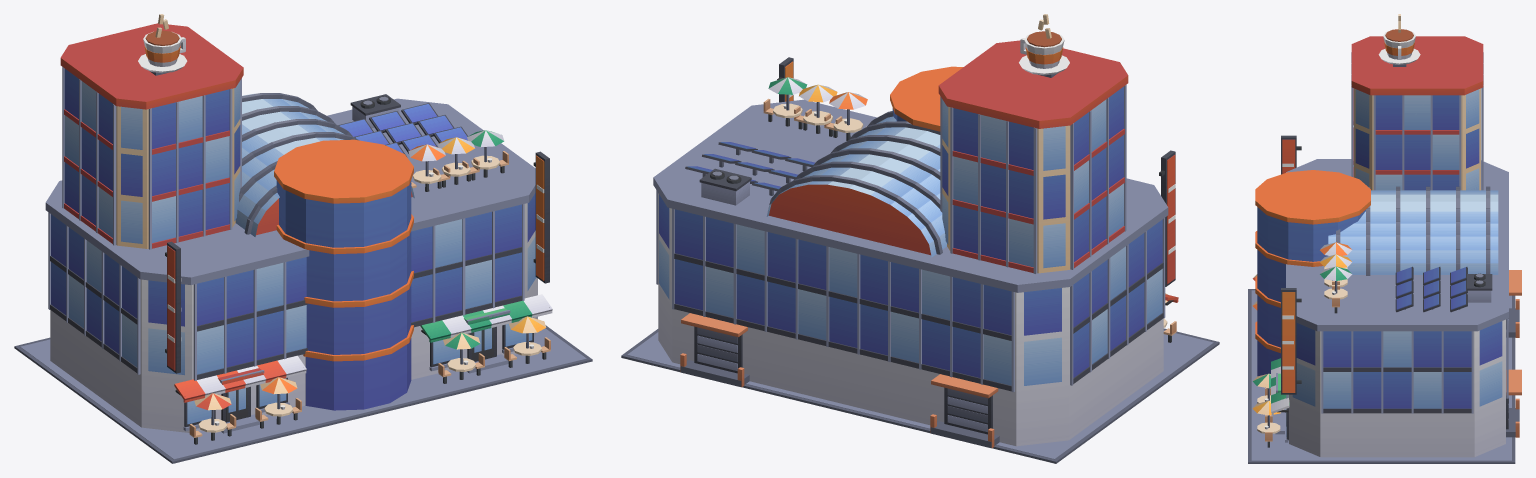
Rendered from com_metropolis_mall_3x2.glb.
3 views of the same model, side by side, from view 1: azimuth 30°, elevation 25°; view 2: azimuth 150°, elevation 25°; view 3: azimuth 270°, elevation 25° (orthographic). The views are drawn at different scales.
Parts seen in each view (by area): view 1: com_metropolis_mall_3x2; view 2: com_metropolis_mall_3x2; view 3: com_metropolis_mall_3x2.
Part boxes in pixels (box(x1,y1,x2,y2)): com_metropolis_mall_3x2: box(14, 14, 592, 463); com_metropolis_mall_3x2: box(621, 14, 1219, 463); com_metropolis_mall_3x2: box(1248, 14, 1521, 463).
Size of the model in its own units: 5.67 by 4.7 by 3.78.
1 material, 1 textured.
